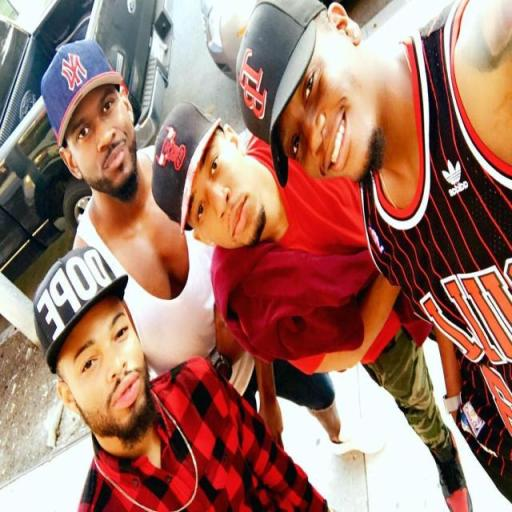Adidas: (438, 155, 470, 198)
